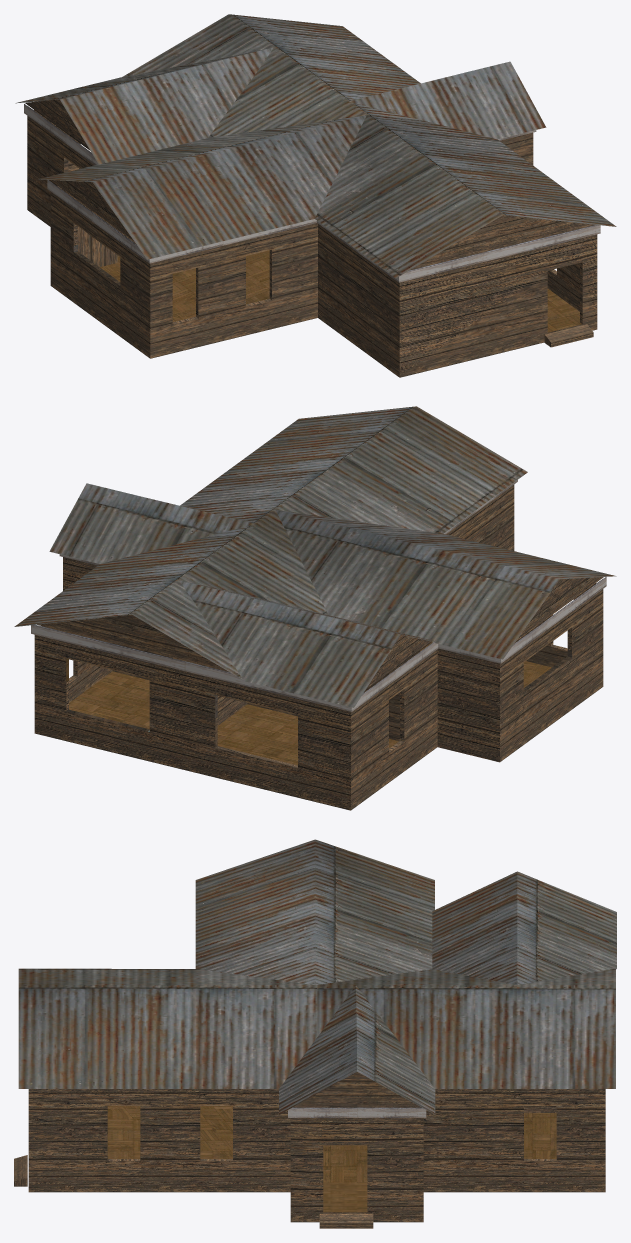
The model's file is BuildingMedWood01_2048_lod2.glb.
3 renders of one model, top to bottom at view 1: azimuth 30°, elevation 25°; view 2: azimuth 150°, elevation 25°; view 3: azimuth 270°, elevation 25°, orthographic. The views are drawn at different scales.
Visible parts, largest first — view 1: xiutz_building_med_lod2; view 2: xiutz_building_med_lod2; view 3: xiutz_building_med_lod2.
Part boxes in pixels (x1=…): xiutz_building_med_lod2: x1=15, y1=14, x2=616, y2=377; xiutz_building_med_lod2: x1=14, y1=406, x2=616, y2=810; xiutz_building_med_lod2: x1=14, y1=839, x2=616, y2=1228.
Size of the model in its own units: 22.11 by 6.8 by 24.04.
Materials: 1 (1 with a texture image).
